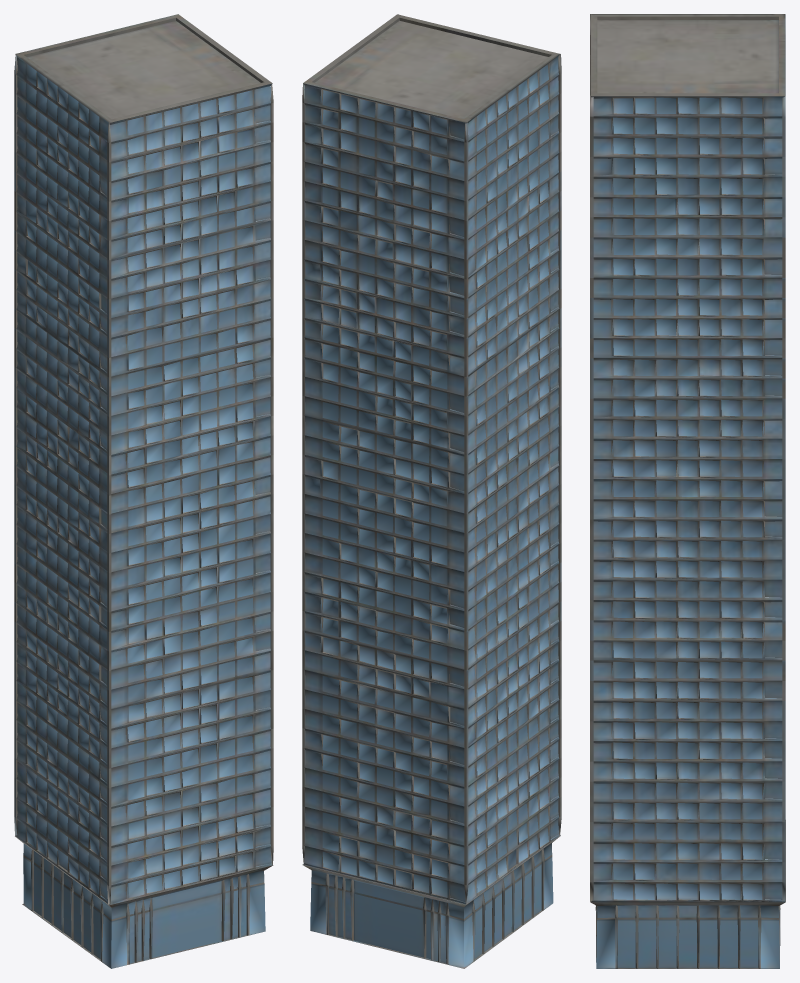
File: skyscraper-01.glb
The picture shows the model from 3 angles, left to right: view 1: azimuth 30°, elevation 25°; view 2: azimuth 150°, elevation 25°; view 3: azimuth 270°, elevation 25°; orthographic projection. The views are drawn at different scales.
Parts seen in each view (by area): view 1: Skyscraper-01_Bake1_PBR; view 2: Skyscraper-01_Bake1_PBR; view 3: Skyscraper-01_Bake1_PBR.
Part boxes in pixels (x1=…): Skyscraper-01_Bake1_PBR: x1=14, y1=14, x2=273, y2=968; Skyscraper-01_Bake1_PBR: x1=302, y1=14, x2=561, y2=968; Skyscraper-01_Bake1_PBR: x1=590, y1=14, x2=785, y2=968.
Bounding box in the file's own units: 20.29 × 99.9 × 20.25.
1 material, 1 textured.
